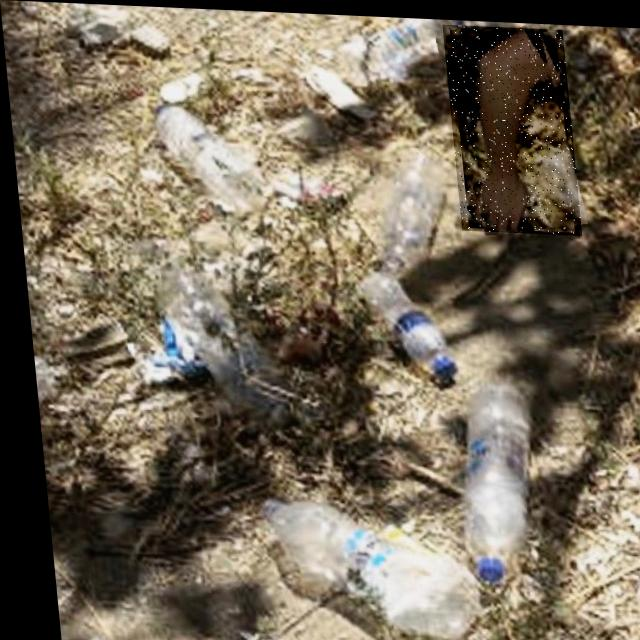Person in Rubble: (442, 20, 578, 231)
